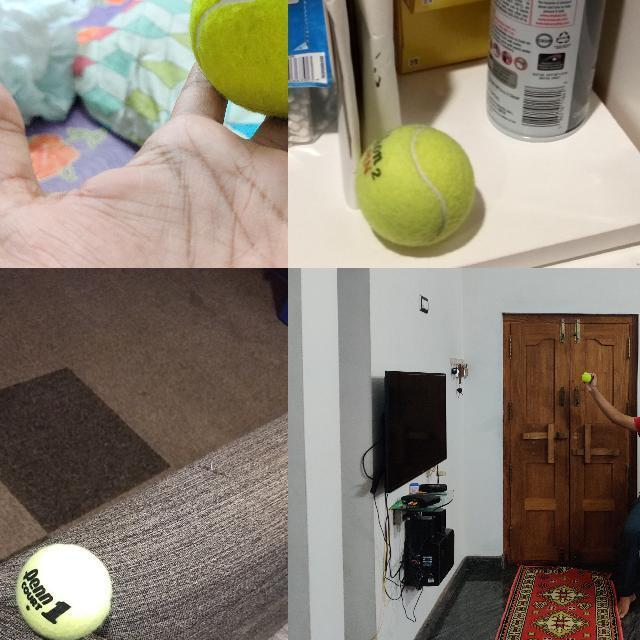tennis-ball: (353, 122, 477, 248), (187, 0, 287, 119), (14, 542, 113, 639), (581, 372, 591, 382)
